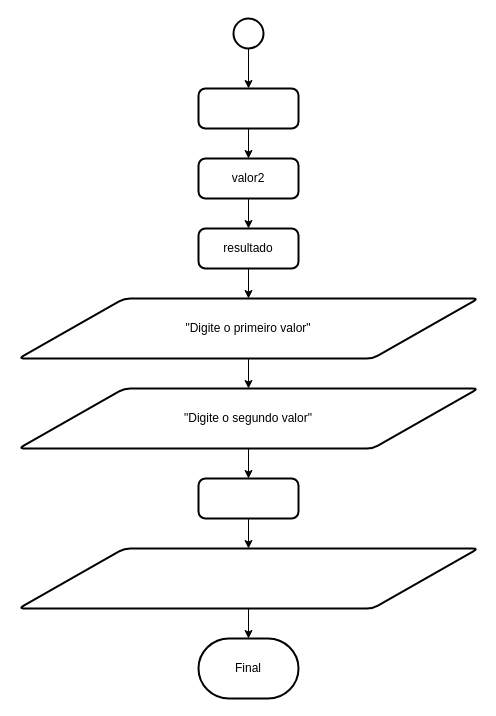
Some shapes in this 496 by 716 pixel diagram are drawn without their labels. The box of each missing label's shape, as (x1, y1, x2, y2) in pixels:
"O resultado da soma dos dois valores é: <<resultado>>": (17, 547, 479, 609)
resultado = valor1 + valor2: (197, 477, 299, 519)
valor1: (197, 87, 299, 129)
